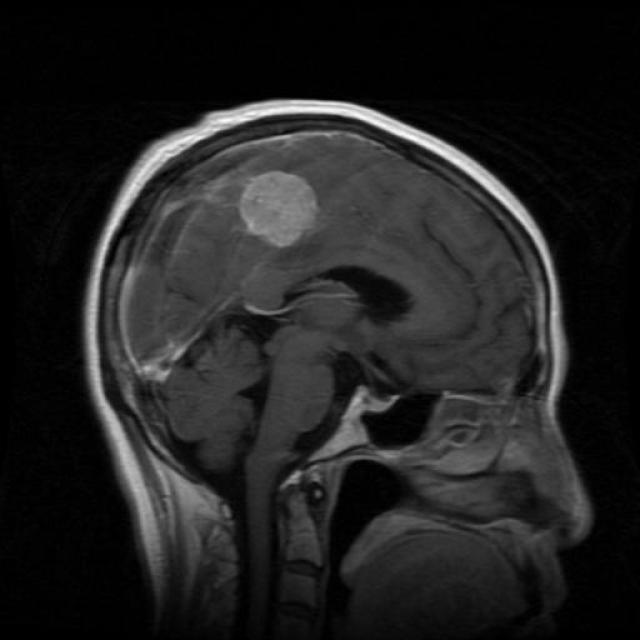meningioma: (238, 171, 316, 249)
